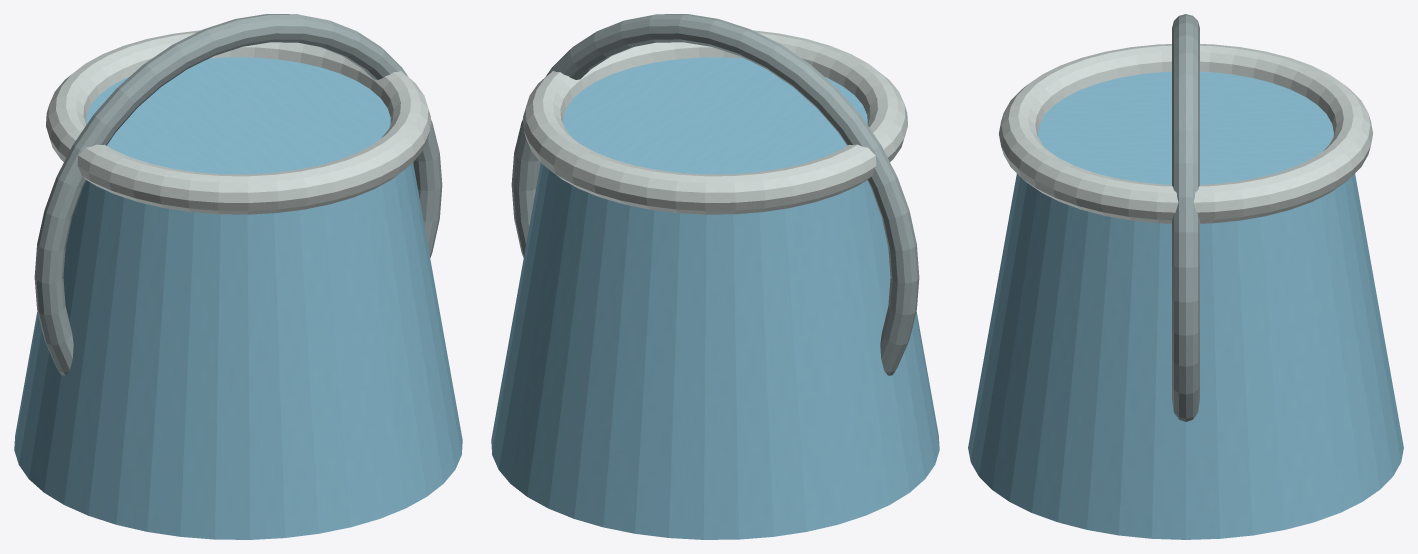
Rendered from bucket.glb.
3 views of the same model, side by side, from view 1: azimuth 30°, elevation 25°; view 2: azimuth 150°, elevation 25°; view 3: azimuth 270°, elevation 25° (orthographic). The views are drawn at different scales.
Visible parts, largest first — view 1: Bucket_Body, Bucket_Rim, Bucket_Handle; view 2: Bucket_Body, Bucket_Rim, Bucket_Handle; view 3: Bucket_Body, Bucket_Rim, Bucket_Handle.
Part boxes in pixels (box(x1,y1,x2,y2)): Bucket_Body: box(14, 57, 462, 539); Bucket_Rim: box(46, 30, 430, 214); Bucket_Handle: box(34, 14, 442, 375); Bucket_Body: box(491, 57, 939, 539); Bucket_Rim: box(523, 30, 907, 214); Bucket_Handle: box(511, 14, 919, 375); Bucket_Body: box(968, 71, 1403, 539); Bucket_Rim: box(999, 44, 1372, 223); Bucket_Handle: box(1172, 14, 1199, 421).
Bounding box in the file's own units: 0.81 × 0.815 × 0.78.
3 materials, 3 textured.
